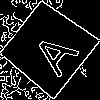A: (23, 23, 81, 79)
